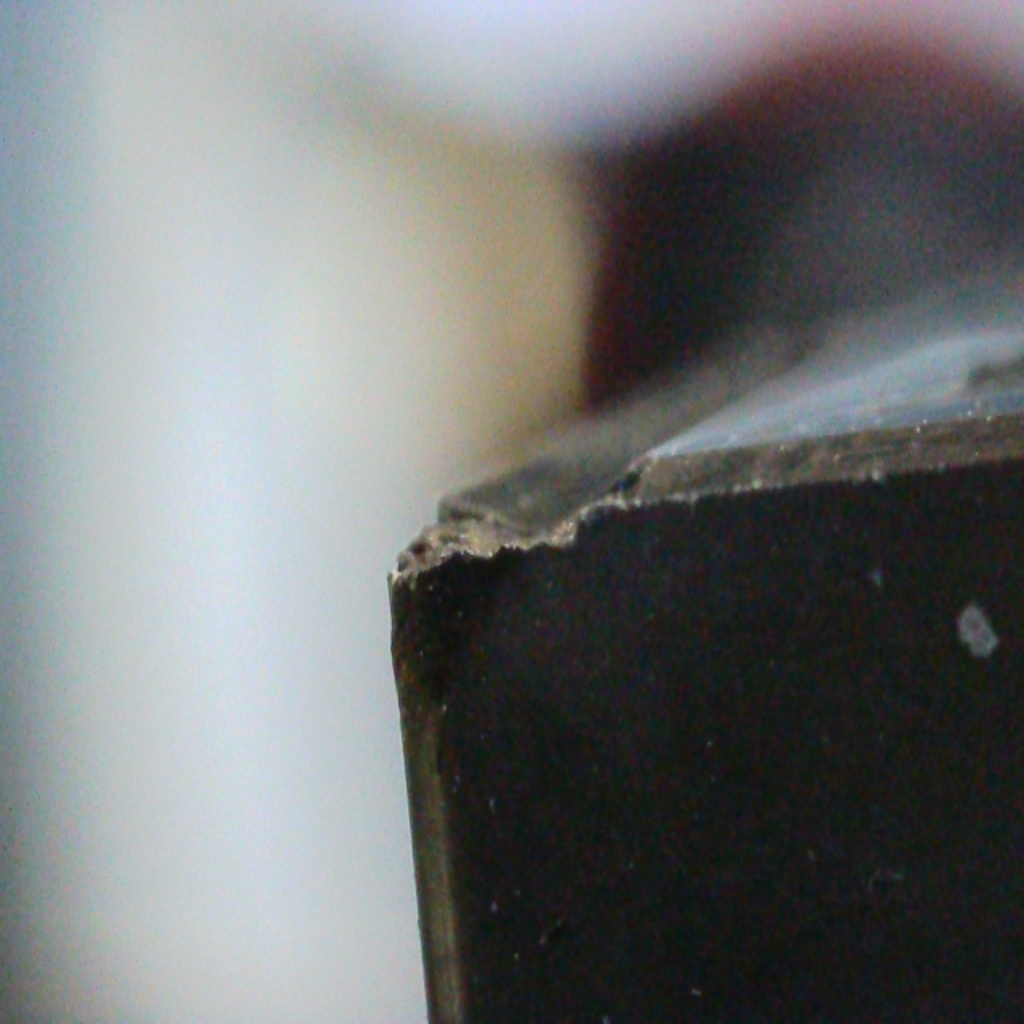flank_wear: (383, 536, 578, 601)
